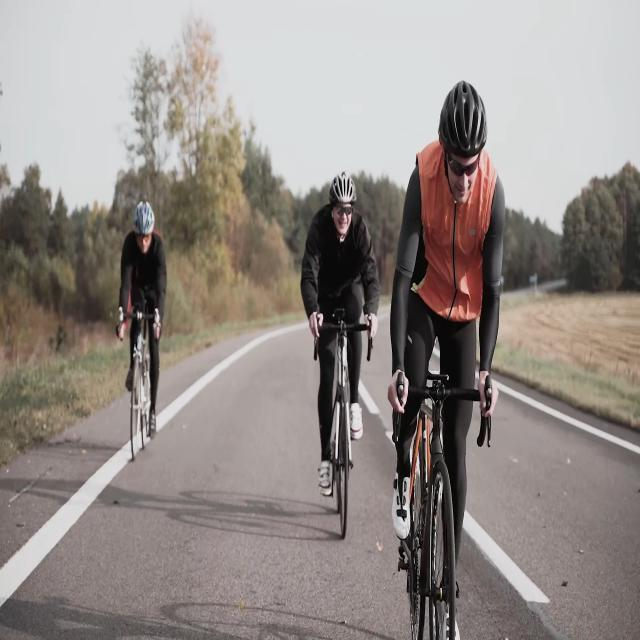Helmet: (430, 75, 499, 208), (325, 165, 361, 238), (128, 194, 161, 258)
bike: (390, 344, 494, 640), (305, 299, 376, 540), (114, 302, 164, 458)
rider: (391, 75, 504, 640), (302, 164, 382, 495), (120, 193, 164, 440)
